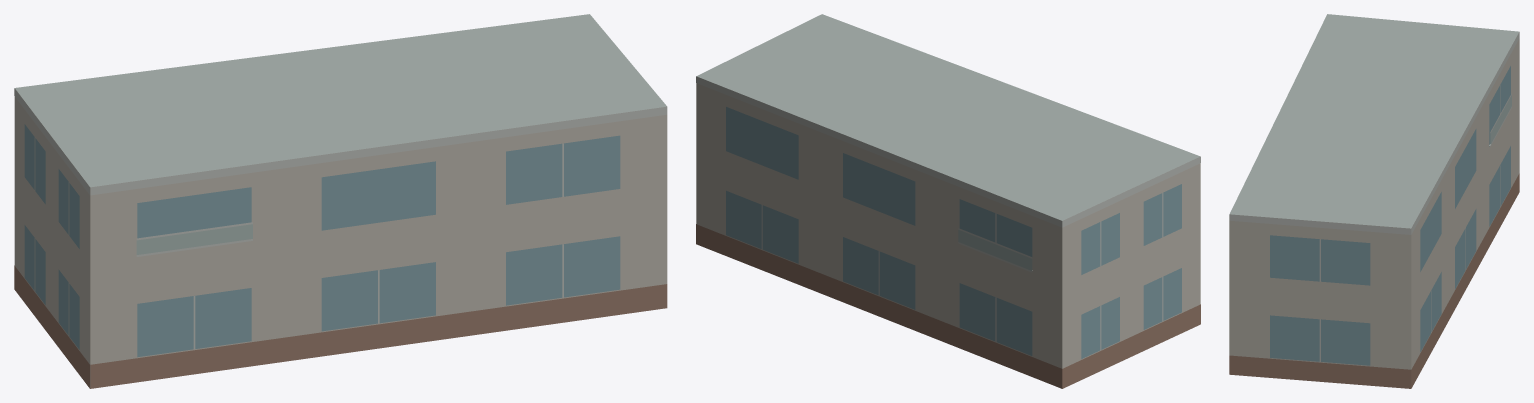
File: survey-upis-32665004.glb
3 renders of one model, left to right at view 1: azimuth 30°, elevation 25°; view 2: azimuth 150°, elevation 25°; view 3: azimuth 270°, elevation 25°, orthographic. The views are drawn at different scales.
Parts seen in each view (by area): view 1: survey-upis-32665004.tmp; view 2: survey-upis-32665004.tmp; view 3: survey-upis-32665004.tmp.
Boxes of the visible parts, left/top/right/bottom form: survey-upis-32665004.tmp: left=14, top=14, right=667, bottom=388; survey-upis-32665004.tmp: left=696, top=14, right=1200, bottom=388; survey-upis-32665004.tmp: left=1229, top=14, right=1519, bottom=388.
Bounding box in the file's own units: 17.52 × 6.1 × 10.02.
